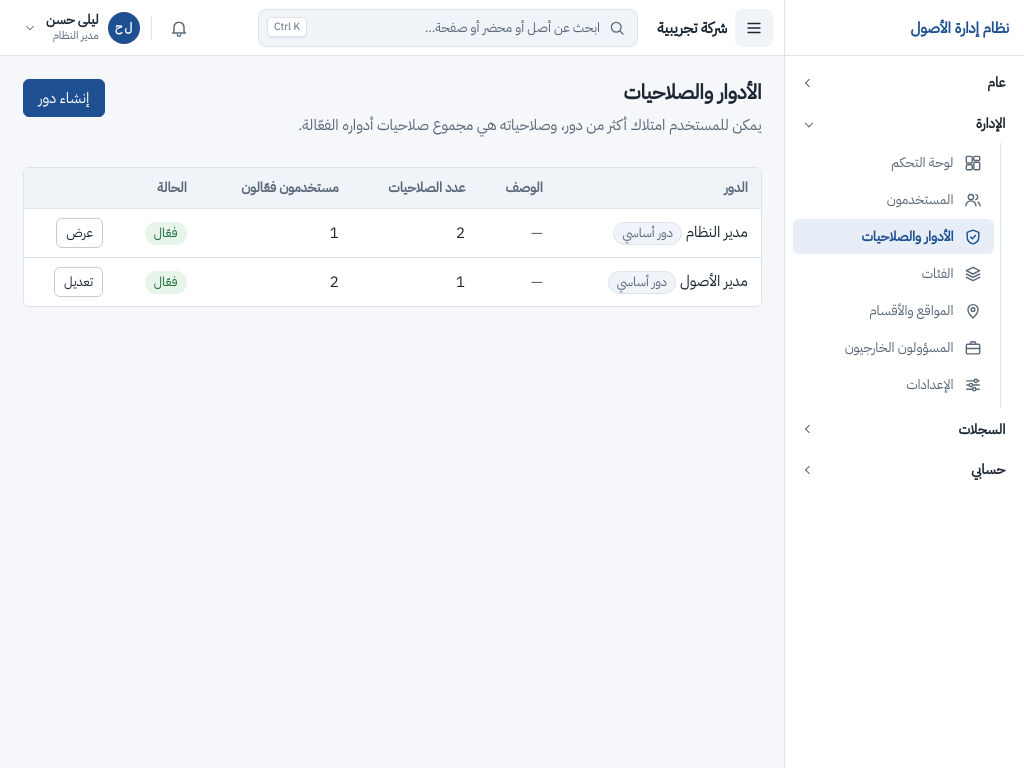
Test case: Roles › the System Administrator role is read-only
The width and height of the screenshot is (1024, 768).
Step 1. Click the button "عرض" → (80, 233), box 56,218 -> 103,248
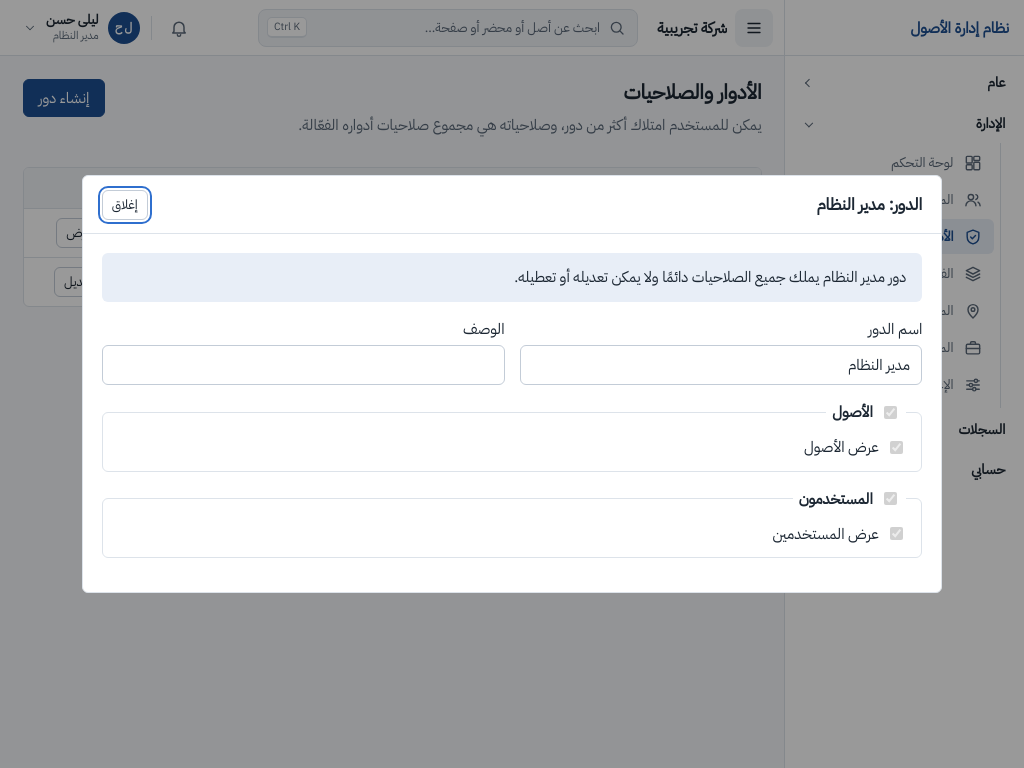
Expected: the checkbox labelled "عرض الأصول" is disabled, 890,441 -> 903,454
